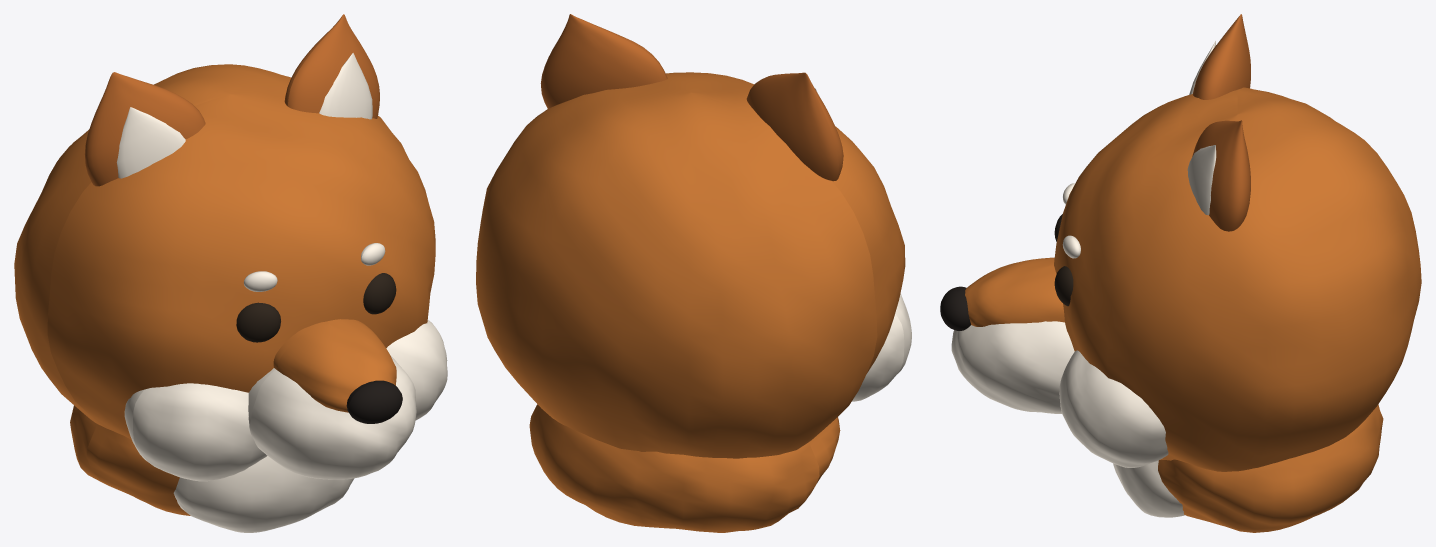
The model's file is head-dog-shiba.glb.
The picture shows the model from 3 angles, left to right: view 1: azimuth 30°, elevation 25°; view 2: azimuth 150°, elevation 25°; view 3: azimuth 270°, elevation 25°; orthographic projection. The views are drawn at different scales.
Parts seen in each view (by area): view 1: PM_FUR_MAIN_1, PM_FUR_SECONDARY_4, PM_FUR_SECONDARY_2, PM_FUR_SECONDARY_16, PM_FUR_MAIN_5, PM_EARS_11, PM_FUR_MAIN_15, PM_EARS_13, PM_FUR_SECONDARY_3, PM_FUR_SECONDARY_12, PM_FUR_SECONDARY_14, PM_NOSE_6 (+3 smaller); view 2: PM_FUR_MAIN_1, PM_FUR_MAIN_15, PM_EARS_13, PM_EARS_11, PM_FUR_SECONDARY_2; view 3: PM_FUR_MAIN_1, PM_FUR_MAIN_15, PM_FUR_SECONDARY_4, PM_FUR_SECONDARY_3, PM_FUR_MAIN_5, PM_EARS_13, PM_EARS_11, PM_FUR_SECONDARY_16, PM_FUR_SECONDARY_14, PM_NOSE_6, PM_EYES_8.
Part boxes in pixels (left/top/right/bottom): PM_FUR_MAIN_1: left=14, top=64, right=435, bottom=439; PM_FUR_SECONDARY_4: left=248, top=355, right=416, bottom=479; PM_FUR_SECONDARY_2: left=124, top=383, right=267, bottom=481; PM_FUR_SECONDARY_16: left=173, top=456, right=354, bottom=532; PM_FUR_MAIN_5: left=273, top=319, right=396, bottom=412; PM_EARS_11: left=84, top=72, right=205, bottom=186; PM_FUR_MAIN_15: left=70, top=405, right=190, bottom=515; PM_EARS_13: left=284, top=14, right=379, bottom=118; PM_FUR_SECONDARY_3: left=386, top=319, right=447, bottom=420; PM_FUR_SECONDARY_12: left=116, top=107, right=185, bottom=178; PM_FUR_SECONDARY_14: left=319, top=53, right=372, bottom=119; PM_NOSE_6: left=346, top=380, right=402, bottom=423; PM_FUR_MAIN_1: left=476, top=72, right=905, bottom=458; PM_FUR_MAIN_15: left=529, top=404, right=840, bottom=532; PM_EARS_13: left=540, top=14, right=667, bottom=108; PM_EARS_11: left=746, top=72, right=843, bottom=181; PM_FUR_SECONDARY_2: left=852, top=293, right=911, bottom=401; PM_FUR_MAIN_1: left=1054, top=87, right=1421, bottom=471; PM_FUR_MAIN_15: left=1158, top=404, right=1383, bottom=532; PM_FUR_SECONDARY_4: left=951, top=321, right=1074, bottom=413; PM_FUR_SECONDARY_3: left=1059, top=350, right=1168, bottom=467; PM_FUR_MAIN_5: left=965, top=257, right=1064, bottom=326; PM_EARS_13: left=1192, top=120, right=1250, bottom=231; PM_EARS_11: left=1193, top=14, right=1250, bottom=99; PM_FUR_SECONDARY_16: left=1113, top=460, right=1184, bottom=517; PM_FUR_SECONDARY_14: left=1187, top=145, right=1216, bottom=215; PM_NOSE_6: left=940, top=286, right=970, bottom=330; PM_EYES_8: left=1054, top=266, right=1073, bottom=306.
Bounding box in the file's own units: 0.065 × 0.0779 × 0.0768.
